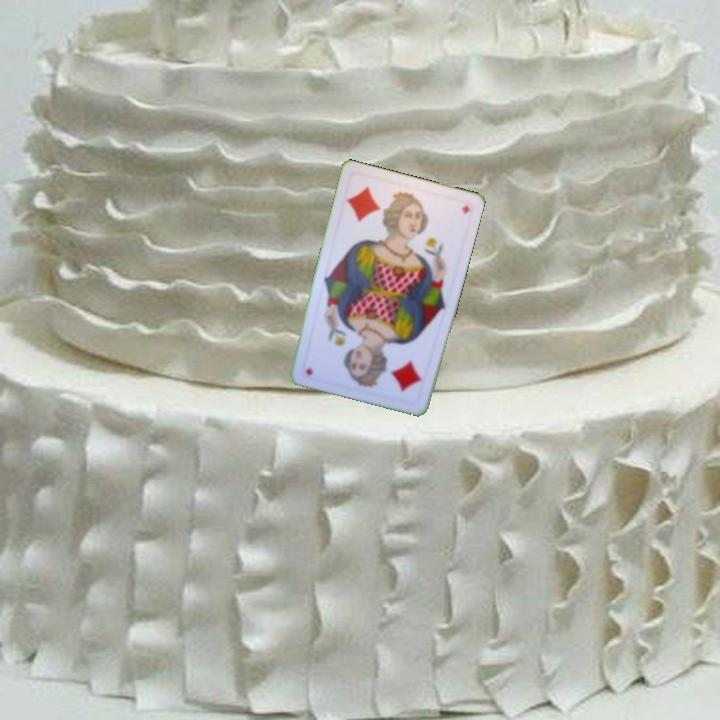d_q.png: (357, 334, 435, 406), (337, 170, 415, 242)
